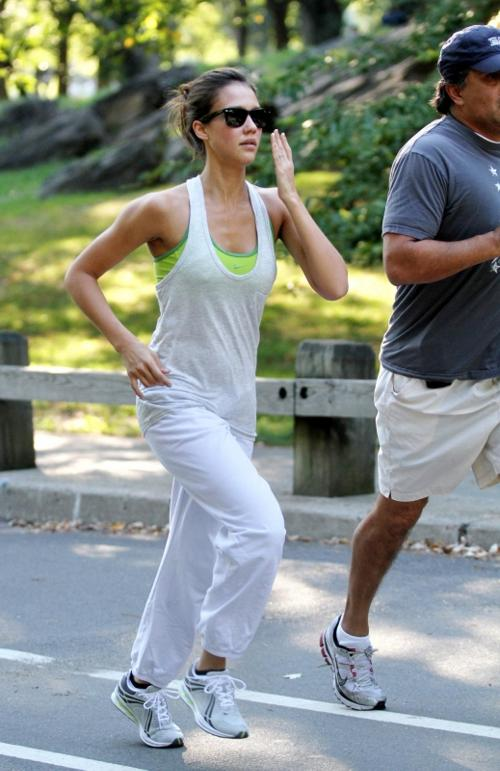person: (66, 67, 350, 754)
